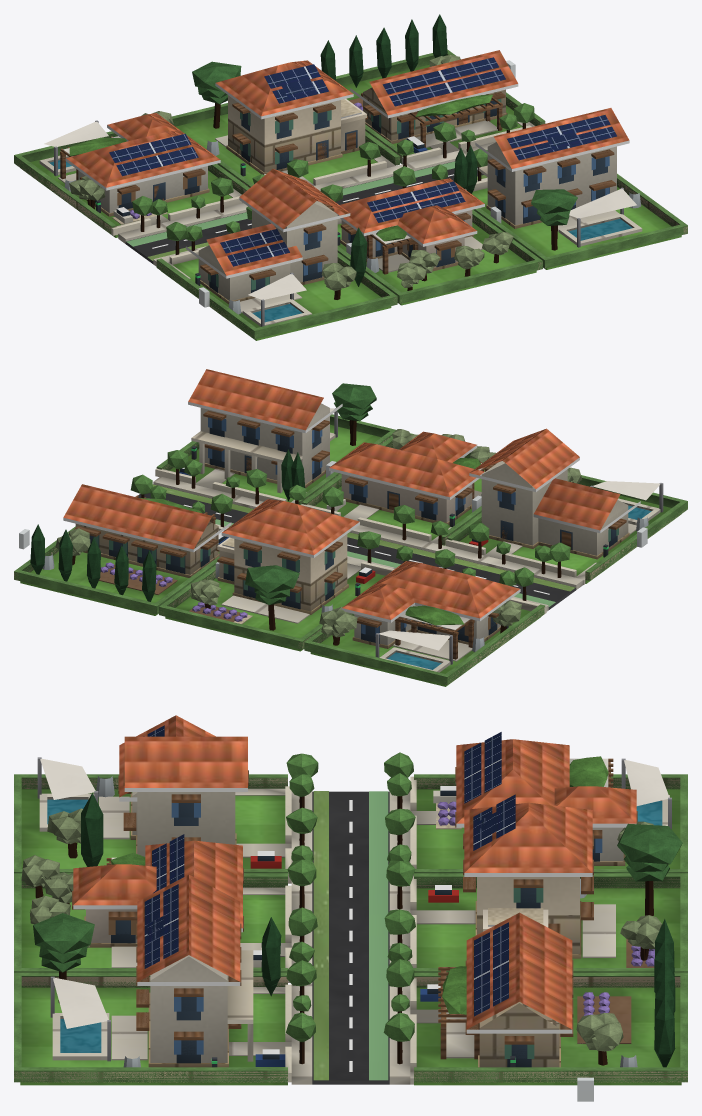
File: villa-district.glb
3 views of the same model, one above another, from view 1: azimuth 30°, elevation 25°; view 2: azimuth 150°, elevation 25°; view 3: azimuth 270°, elevation 25° (orthographic). The views are drawn at different scales.
Visible parts, largest first — view 1: era-0, era-1, era-2; view 2: era-0, era-2, era-1; view 3: era-0, era-2, era-1.
Boxes of the visible parts, box(x1,y1,x2,y2) form: era-0: box(14, 49, 687, 340); era-1: box(15, 57, 687, 337); era-2: box(44, 14, 641, 326); era-0: box(14, 369, 687, 686); era-2: box(19, 383, 663, 664); era-1: box(14, 402, 687, 684); era-0: box(14, 715, 687, 1085); era-2: box(21, 752, 682, 1101); era-1: box(14, 725, 687, 1082).
Size of the model in its own units: 0.059 by 0.0112 by 0.0524.
1 material, 1 textured.
